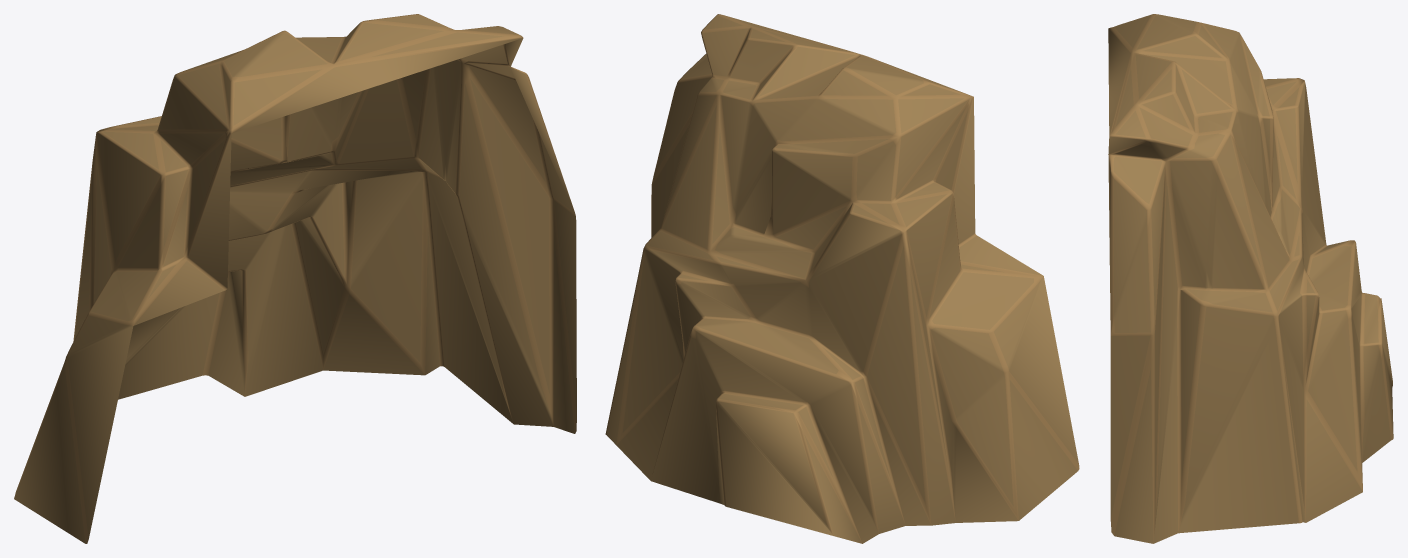
The model's file is Risco1Mesh.fbx.
The picture shows the model from 3 angles, left to right: view 1: azimuth 30°, elevation 25°; view 2: azimuth 150°, elevation 25°; view 3: azimuth 270°, elevation 25°; orthographic projection. The views are drawn at different scales.
Parts seen in each view (by area): view 1: Risco 1; view 2: Risco 1; view 3: Risco 1.
Part boxes in pixels (<box>): Risco 1: <box>14,14,576,543</box>; Risco 1: <box>605,14,1079,543</box>; Risco 1: <box>1108,14,1393,543</box>.
Size of the model in its own units: 894 by 812 by 503.
